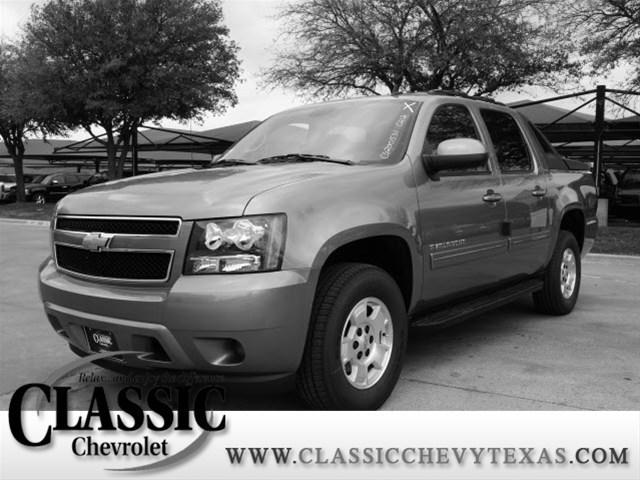car: (41, 95, 600, 411)
